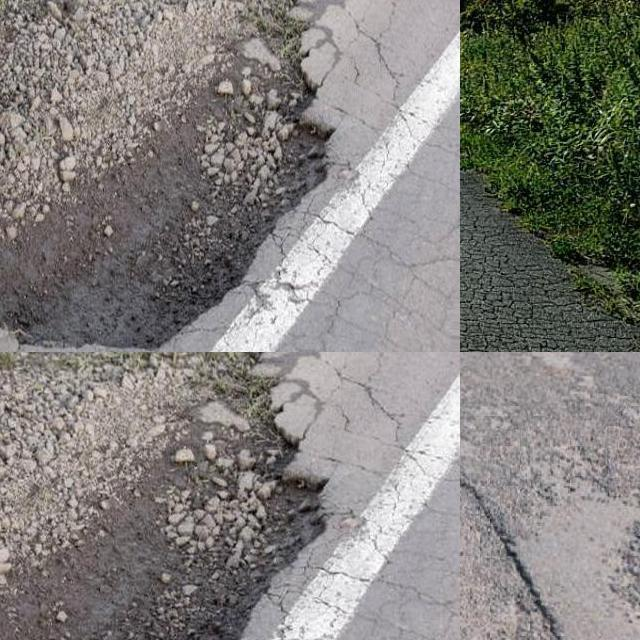Pinggir: (0, 0, 353, 352), (0, 352, 346, 640)
Retak Buaya: (460, 171, 638, 352)
